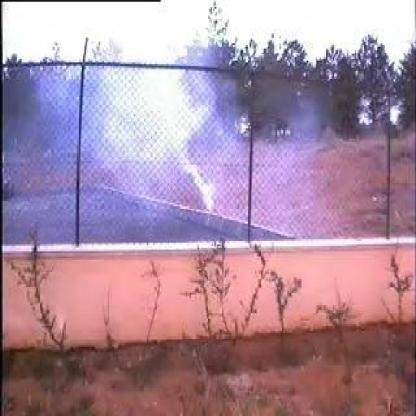-: (55, 63, 258, 246)
